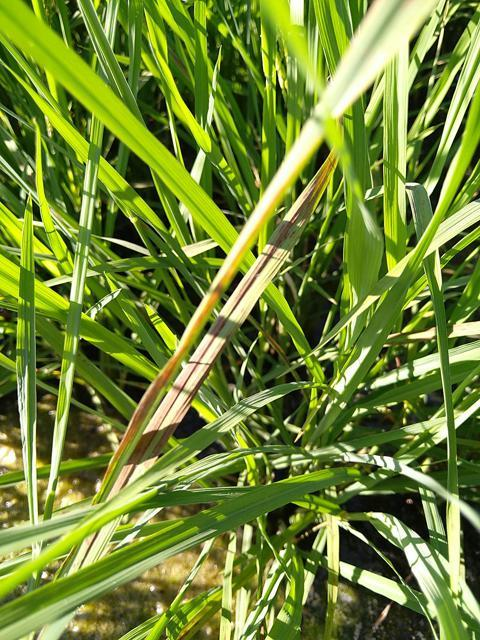Leaf Streak: (108, 156, 336, 501), (107, 139, 313, 472)
